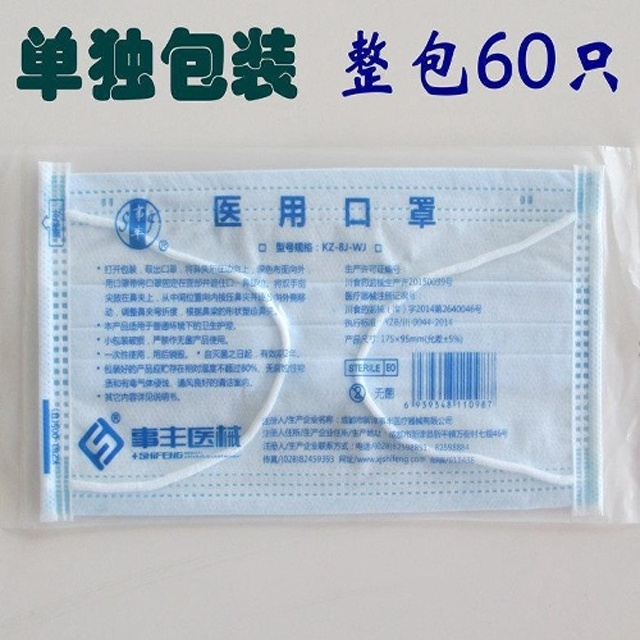mask: (37, 161, 605, 517)
